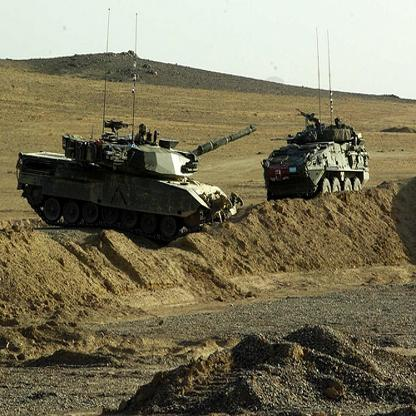Tank: (7, 119, 258, 246), (262, 111, 372, 213)
